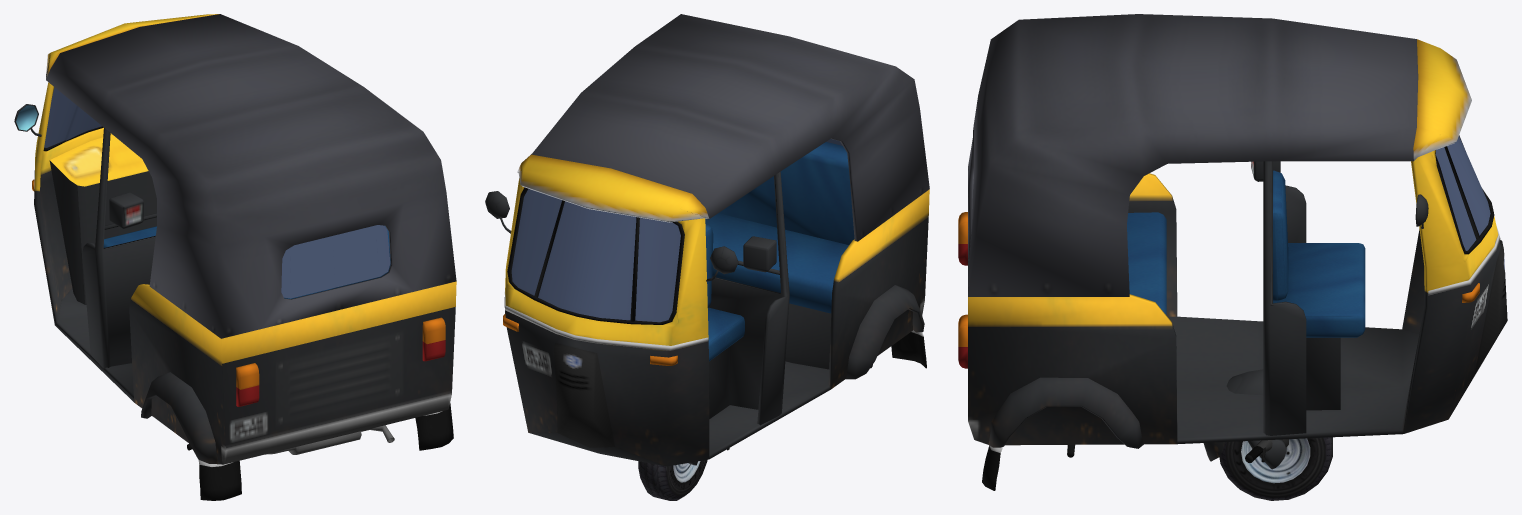
File: TukTuk.fbx
3 views of the same model, side by side, from view 1: azimuth 30°, elevation 25°; view 2: azimuth 150°, elevation 25°; view 3: azimuth 270°, elevation 25° (orthographic). The views are drawn at different scales.
Visible parts, largest first — view 1: tt_Body, tt_Windshield, tt_SeatDriver; view 2: tt_Body, tt_Windshield, tt_SeatRear, tt_SeatDriver, tt_WheelLeft, tt_WheelFront; view 3: tt_Body, tt_SeatDriver, tt_SeatRear, tt_WheelFront, tt_Windshield, tt_WheelRight, tt_WheelLeft, tt_Fork.
Boxes of the visible parts, left/top/right/bottom form: tt_Body: left=14, top=14, right=456, bottom=500; tt_Windshield: left=44, top=87, right=390, bottom=298; tt_SeatDriver: left=103, top=226, right=156, bottom=247; tt_Body: left=485, top=14, right=929, bottom=466; tt_Windshield: left=511, top=139, right=842, bottom=322; tt_SeatRear: left=705, top=142, right=854, bottom=313; tt_SeatDriver: left=705, top=228, right=744, bottom=361; tt_WheelLeft: left=638, top=460, right=706, bottom=500; tt_WheelFront: left=666, top=459, right=707, bottom=500; tt_Body: left=958, top=14, right=1507, bottom=490; tt_SeatDriver: left=1273, top=170, right=1365, bottom=337; tt_SeatRear: left=1127, top=170, right=1278, bottom=315; tt_WheelFront: left=1219, top=438, right=1325, bottom=500; tt_Windshield: left=1435, top=136, right=1490, bottom=250; tt_WheelRight: left=1225, top=437, right=1332, bottom=500; tt_WheelLeft: left=1227, top=437, right=1332, bottom=498; tt_Fork: left=1203, top=369, right=1286, bottom=469.
Size of the model in its own units: 20.55 by 28.18 by 32.42.
